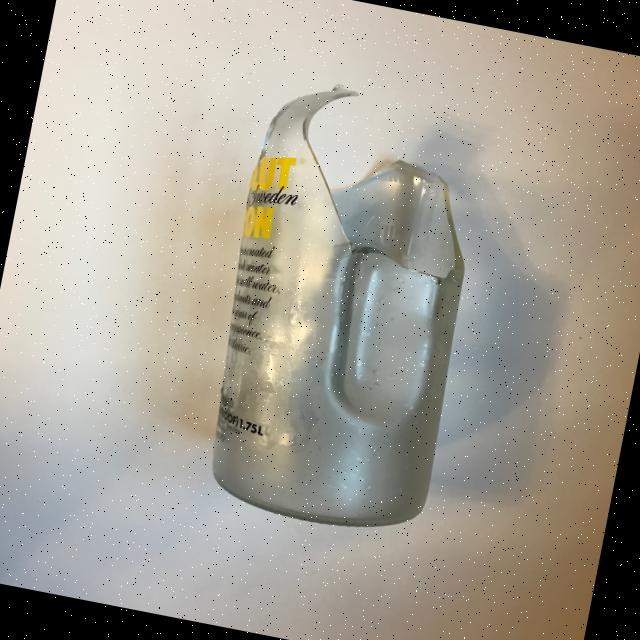glass: (188, 71, 502, 543)
